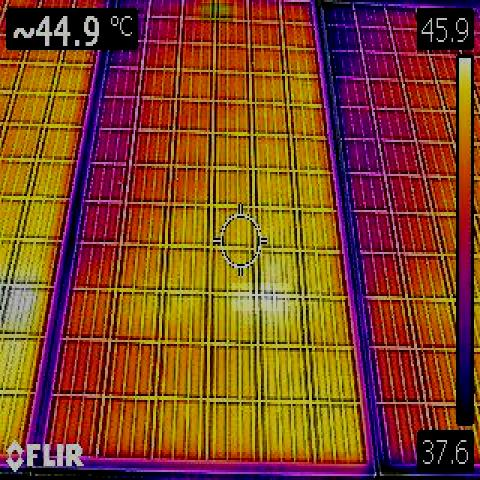fault: (0, 276, 41, 339), (232, 283, 290, 311), (201, 3, 233, 23)
